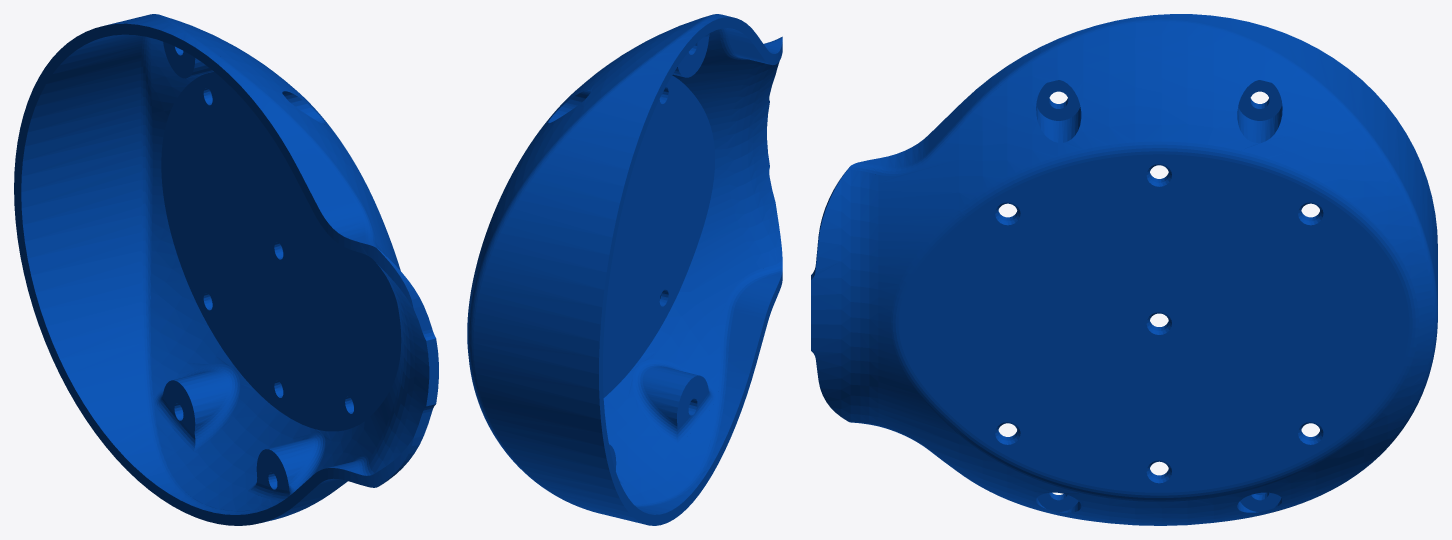
Rendered from wrist_cap.stl.obj.
The picture shows the model from 3 angles, left to right: view 1: azimuth 30°, elevation 25°; view 2: azimuth 150°, elevation 25°; view 3: azimuth 270°, elevation 25°; orthographic projection. The views are drawn at different scales.
Parts seen in each view (by area): view 1: <STL_BINARY>; view 2: <STL_BINARY>; view 3: <STL_BINARY>.
Part boxes in pixels (x1,y1,x2,y2): <STL_BINARY>: (14, 14, 438, 525); <STL_BINARY>: (467, 14, 782, 525); <STL_BINARY>: (811, 14, 1437, 525).
Size of the model in its own units: 0.0295 by 0.092 by 0.1035.
